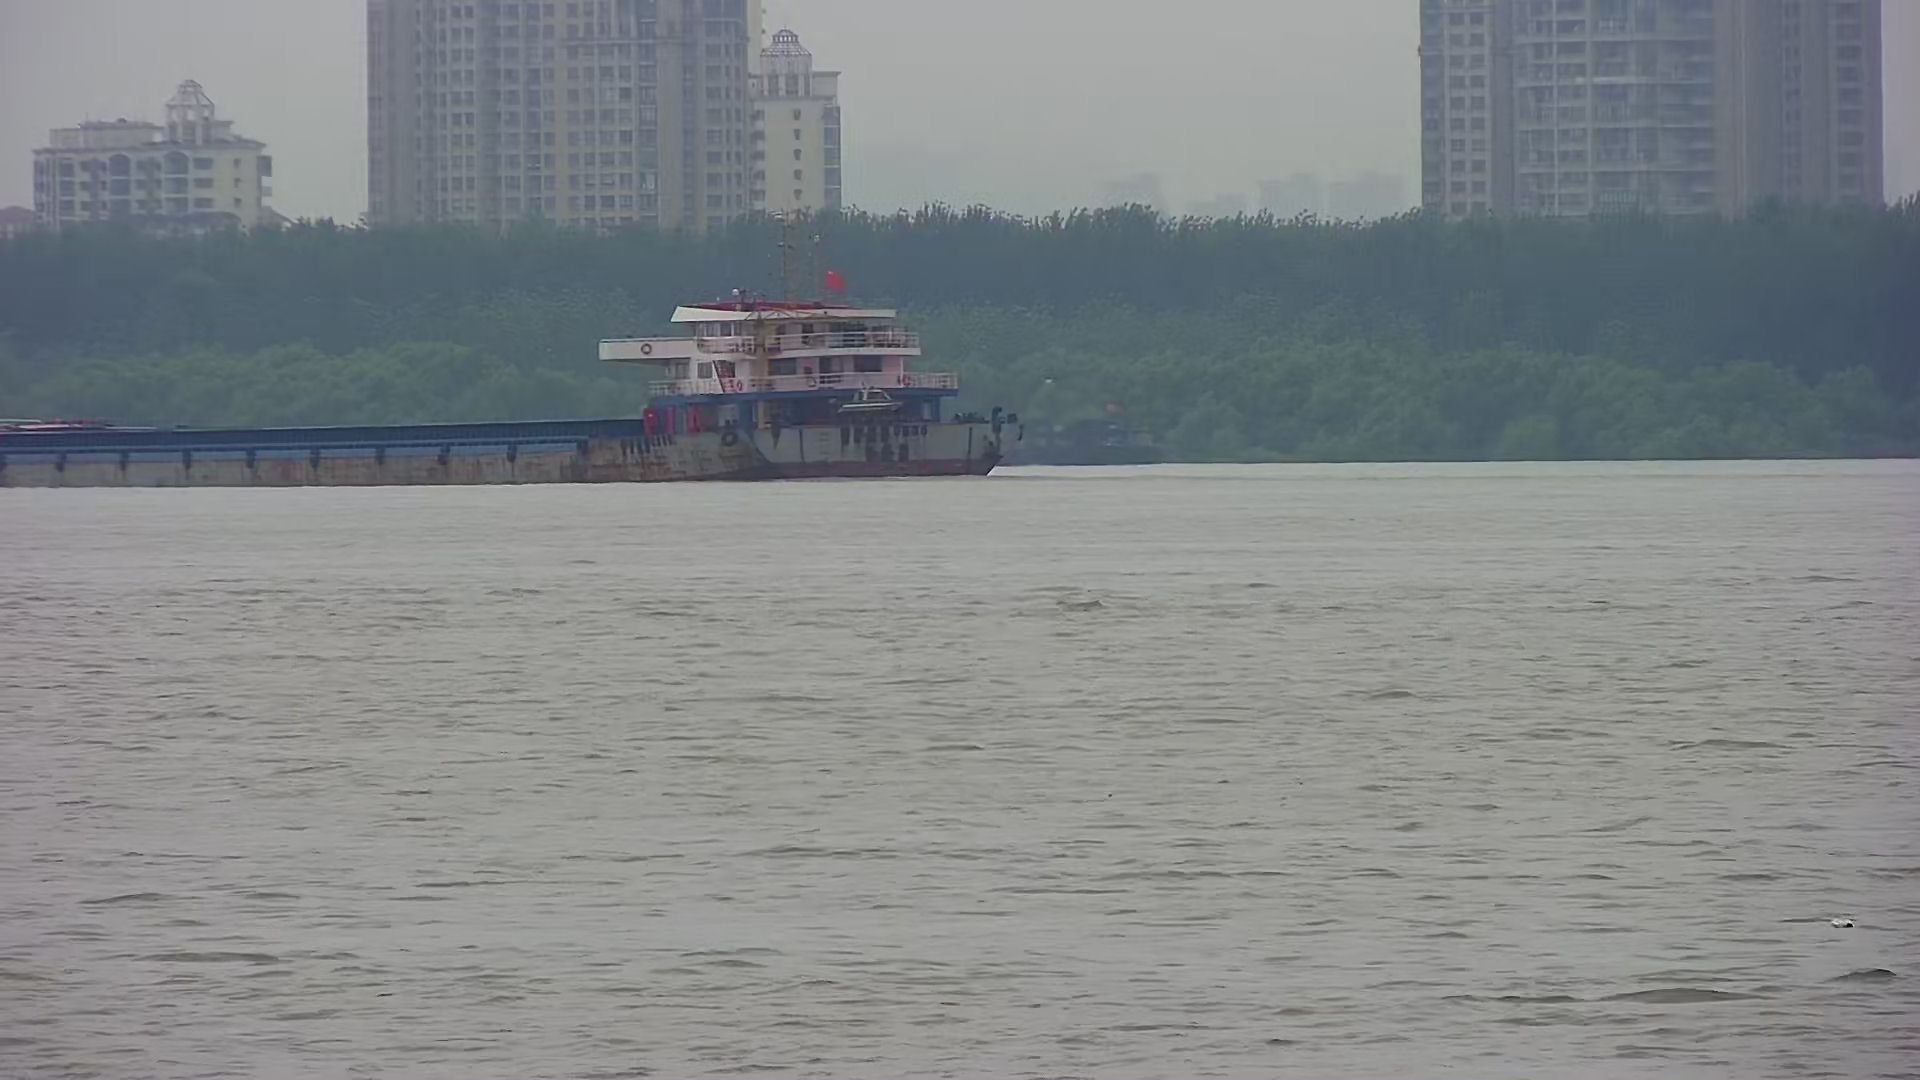ship: (1, 293, 1007, 479), (1010, 405, 1178, 469)
